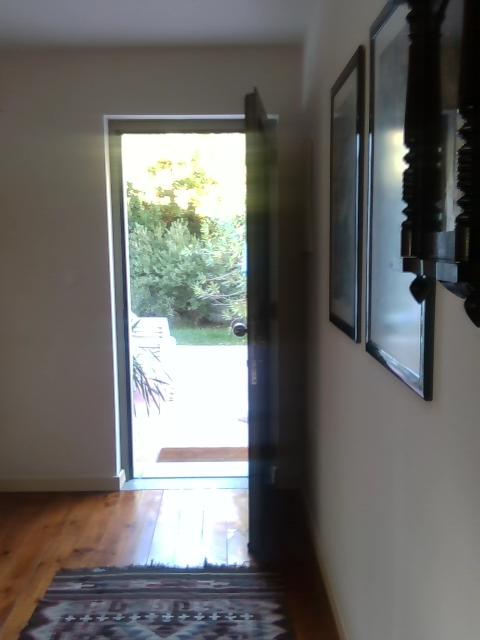open_door: (101, 112, 279, 489)
